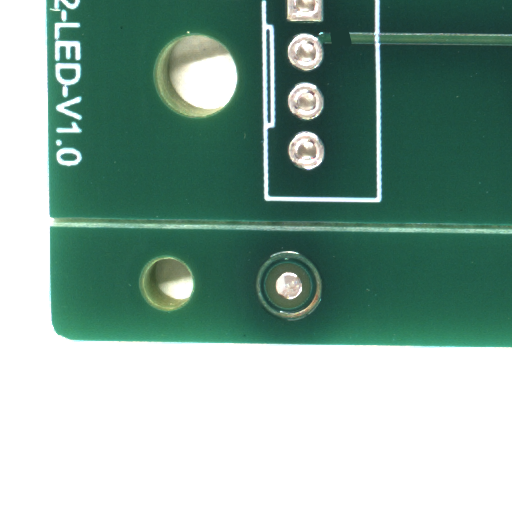Open_circuit: (341, 38, 364, 55)
